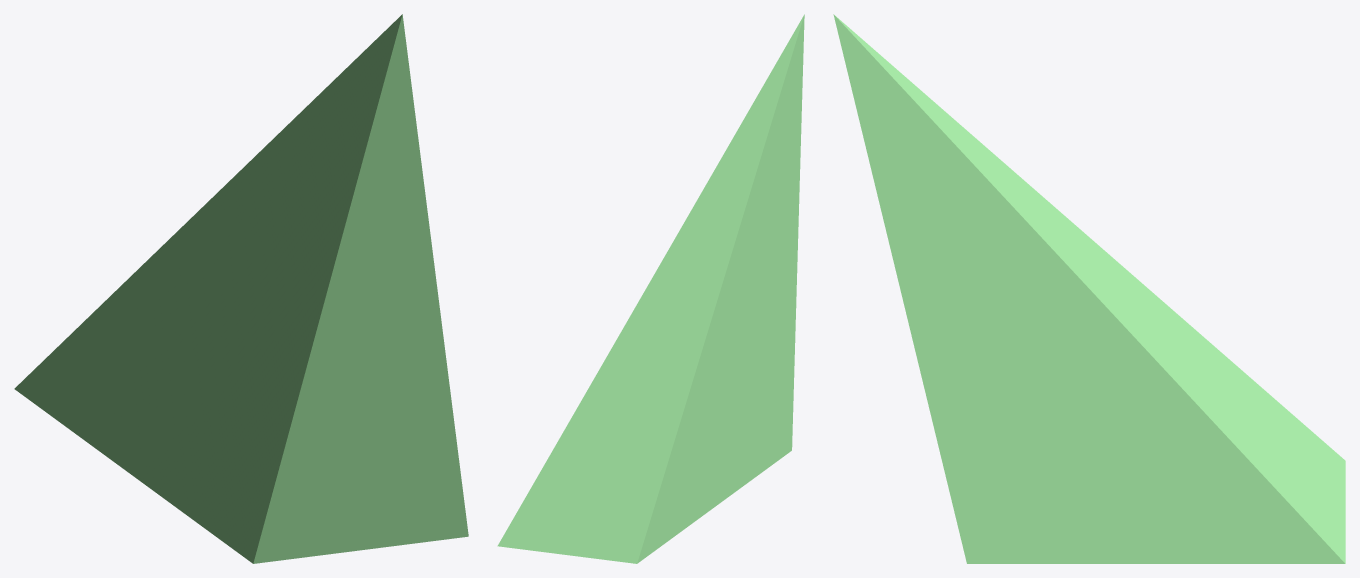
File: UMIRobot_UMIRobot_link_2_convex_coll_15.dae
The picture shows the model from 3 angles, left to right: view 1: azimuth 30°, elevation 25°; view 2: azimuth 150°, elevation 25°; view 3: azimuth 270°, elevation 25°; orthographic projection. The views are drawn at different scales.
Parts seen in each view (by area): view 1: node; view 2: node; view 3: node.
Part boxes in pixels (x1,y1,x2,y2): node: (14,14,468,563); node: (497,14,804,563); node: (833,14,1345,563).
Bounding box in the file's own units: 0.0109 × 0.0301 × 0.0284.
